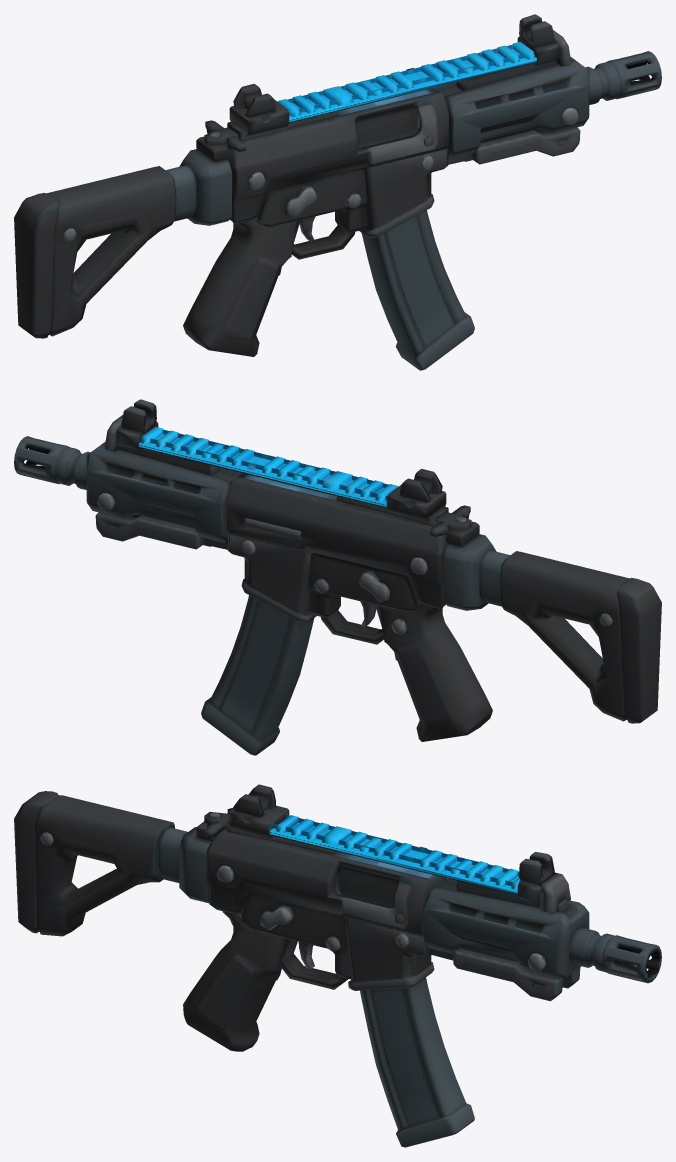
File: smg.glb
3 renders of one model, top to bottom at view 1: azimuth 30°, elevation 25°; view 2: azimuth 150°, elevation 25°; view 3: azimuth 330°, elevation 25°, orthographic.
Visible parts, largest first — view 1: tripo_node_f375fdad-97c2-49c1-a805-31efca61422e; view 2: tripo_node_f375fdad-97c2-49c1-a805-31efca61422e; view 3: tripo_node_f375fdad-97c2-49c1-a805-31efca61422e.
Boxes of the visible parts, x1,y1,x2,y2 form: tripo_node_f375fdad-97c2-49c1-a805-31efca61422e: (14,14,661,370); tripo_node_f375fdad-97c2-49c1-a805-31efca61422e: (14,399,661,755); tripo_node_f375fdad-97c2-49c1-a805-31efca61422e: (14,784,661,1147).
Size of the model in its own units: 0.9995 by 0.4751 by 0.1001.
1 material, 1 textured.
